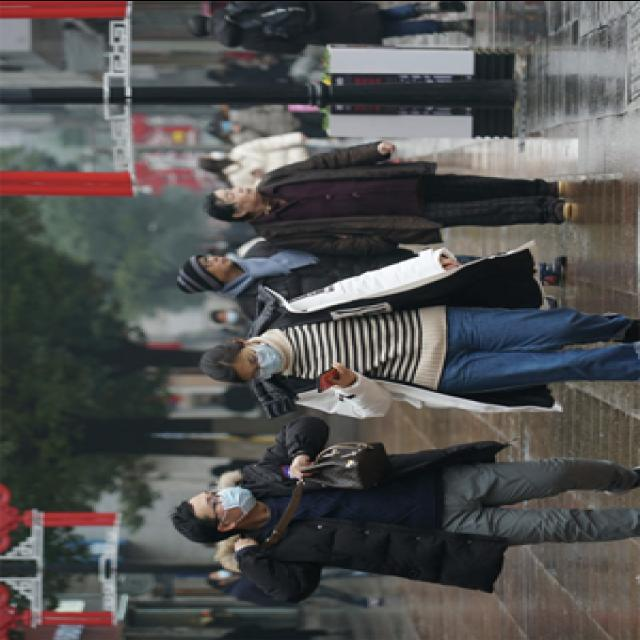with_mask: (198, 483, 256, 520), (240, 342, 282, 380), (211, 568, 237, 582)
without_mask: (218, 186, 256, 208), (196, 253, 228, 275)
